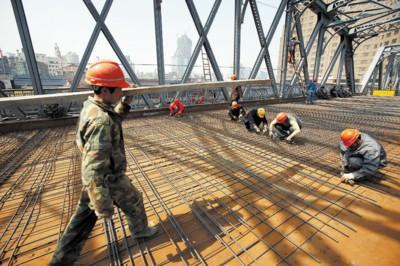helmet: (84, 56, 131, 106), (339, 127, 362, 148), (273, 111, 289, 126), (255, 106, 267, 120)
